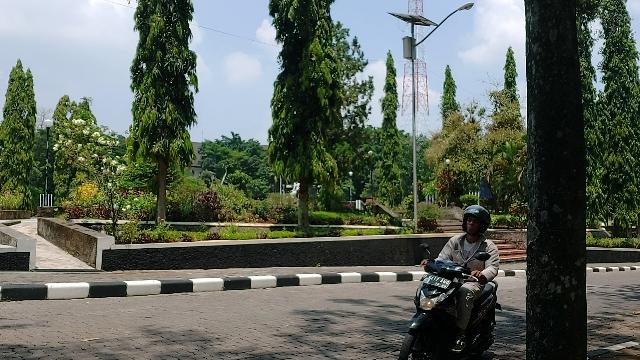helm: (463, 206, 493, 239)
motor: (400, 243, 505, 360)
